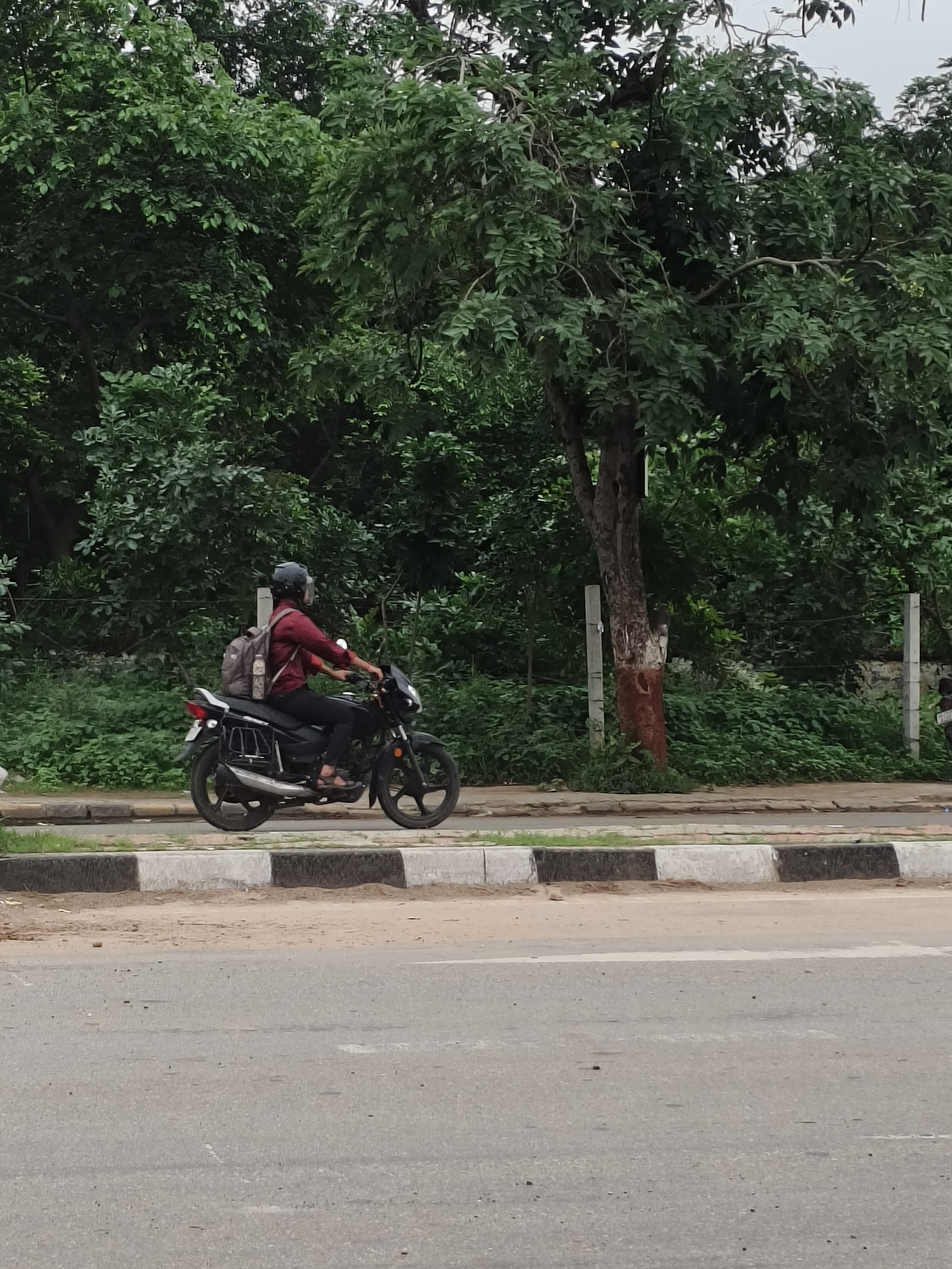BikeWithRider: (176, 553, 465, 834)
Helmet: (267, 557, 320, 612)
